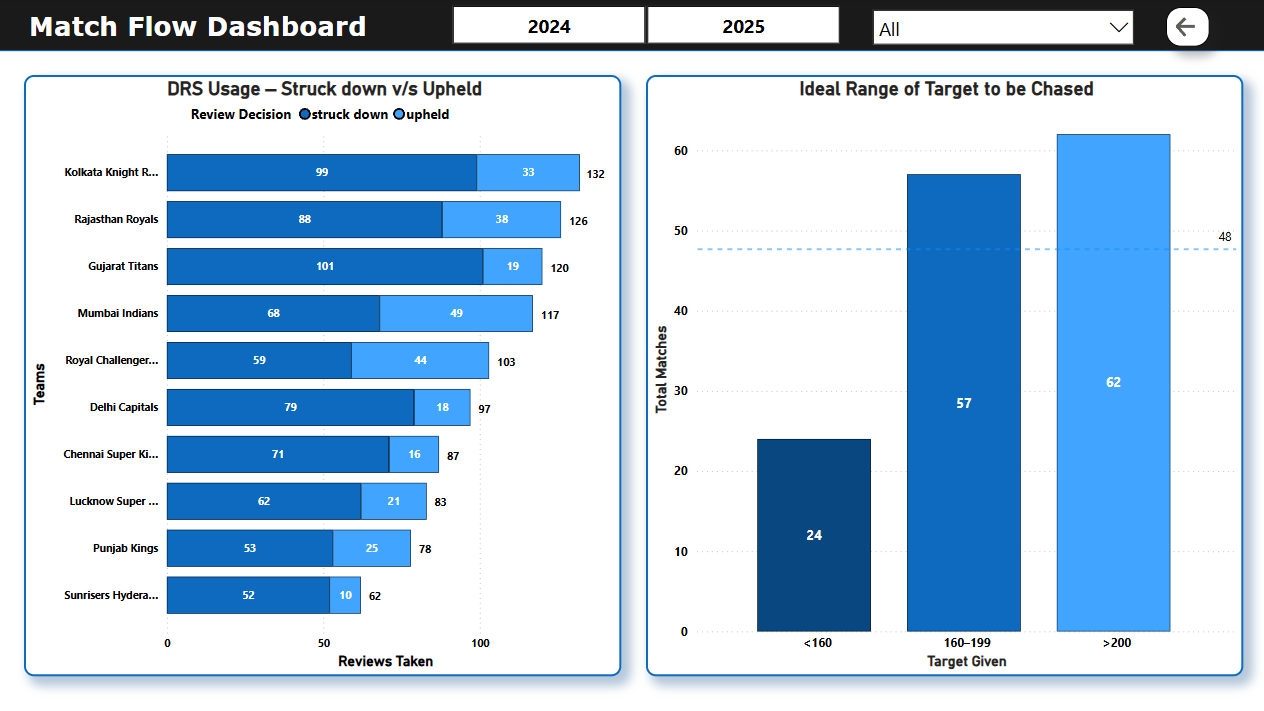

The page's visual inventory and layout, read from the dashboard file:
{"tool":"powerbi","page":{"name":"Match Flow","canvas":[1280,720],"ordinal":3},"visuals":[{"type":"shape","box":[0,0,1280.4,53.5],"z":0},{"type":"textbox","box":[27.2,6.3,487,47.2],"z":1000},{"type":"slicer","fields":{"Values":["ipl_summary_24_25.season"]},"box":[433.4,1,440.4,52.4],"z":2000},{"type":"barChart","title":"DRS Usage – Struck down v/s Upheld","fields":{"Series":["ipl_filtered_24_25.review_decision"],"Y":["Sum(ipl_filtered_24_25.ball)"],"Category":["ipl_filtered_24_25.team_reviewed"]},"box":[27.2,78,602.1,605.7],"z":3000},{"type":"clusteredColumnChart","title":"Ideal Range of Target to be Chased","fields":{"Y":["Count(ipl_filtered_24_25.match_id)"],"Category":["ipl_filtered_24_25.target_bucket"]},"box":[653.8,78,602.1,605.7],"z":4000},{"type":"actionButton","box":[1178.2,9.1,44.3,40.3],"z":5000},{"type":"slicer","fields":{"Values":["ipl_filtered_24_25.batting_team"]},"box":[872.8,2,283.2,52.4],"z":6000}]}

Visuals, with their boxes in screenshot pixels (x1, y1, x2, y2), scaled from the page's 1280x720 canvas onto the 1264x711 screenshot:
shape: bbox(0, 0, 1263, 53)
textbox: bbox(27, 6, 508, 53)
slicer - ipl_summary_24_25.season: bbox(428, 1, 863, 53)
"DRS Usage – Struck down v/s Upheld" barChart: bbox(27, 77, 621, 675)
"Ideal Range of Target to be Chased" clusteredColumnChart: bbox(646, 77, 1240, 675)
actionButton: bbox(1163, 9, 1207, 49)
slicer - ipl_filtered_24_25.batting_team: bbox(862, 2, 1142, 54)
